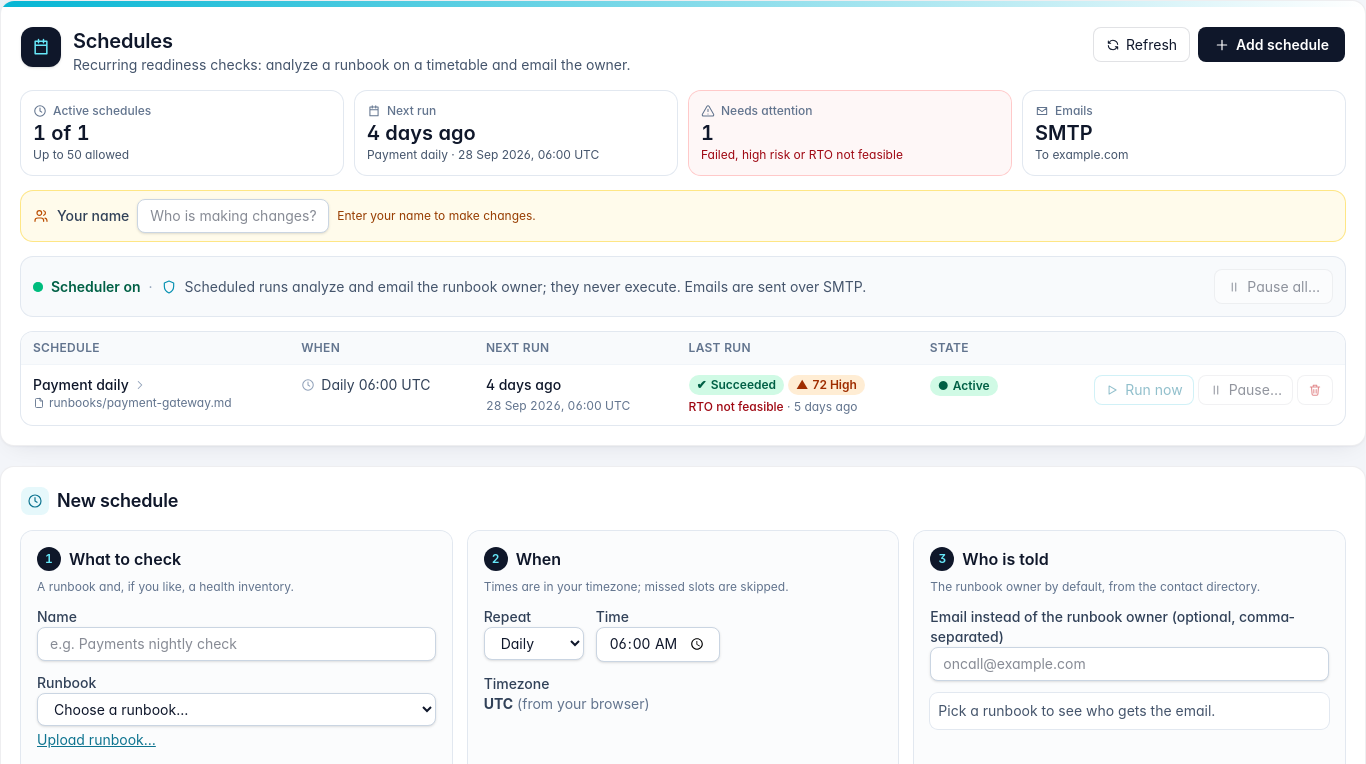
Test case: SchedulesView › needs a name before changing anything
The width and height of the screenshot is (1366, 764).
Expected: the button with aria-label "Run Payment daily now" is disabled, [1094,375,1194,405]
Expected: the text "Enter your name to make changes." is shown, [337,208,536,224]
In the field labelled "Your name": (233, 216) [137,199,329,233], type "Bob"
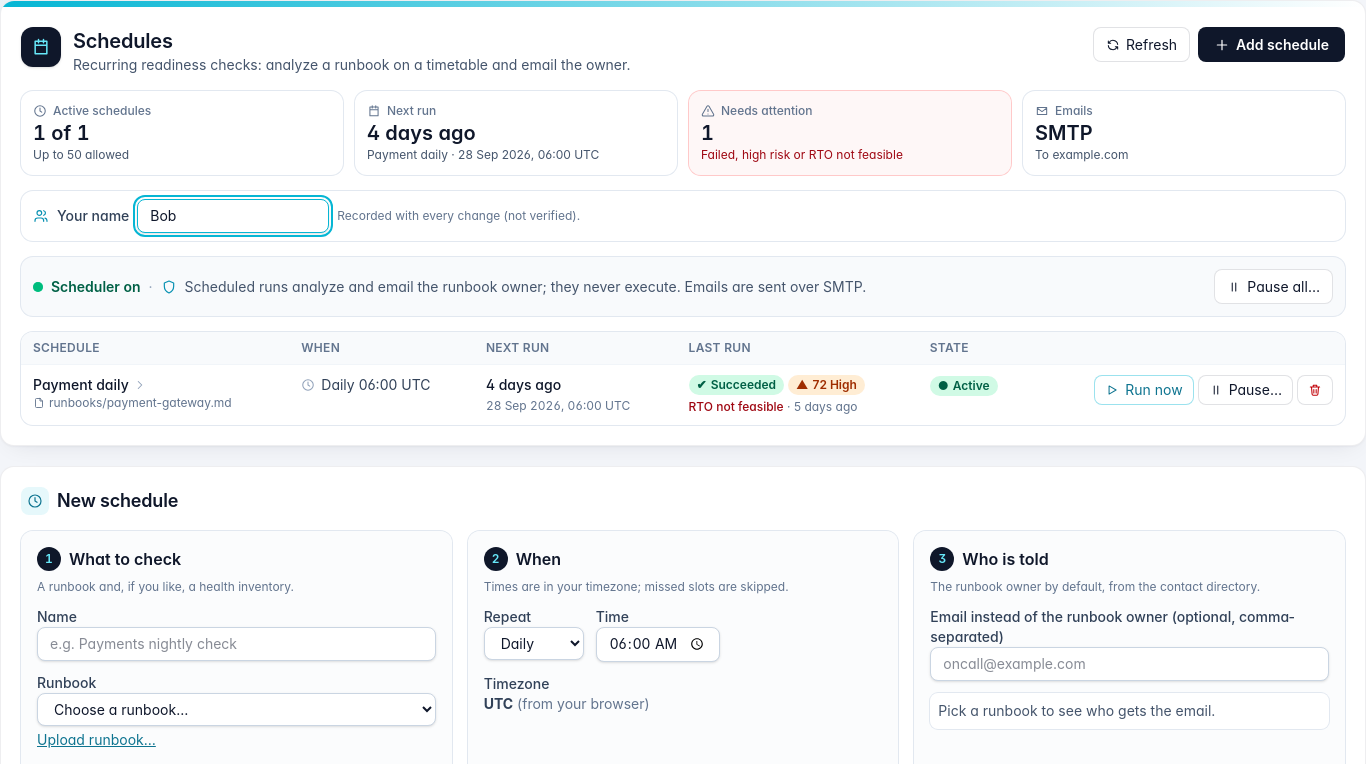
Result: the button with aria-label "Run Payment daily now" is enabled at [1094,375,1194,405]
